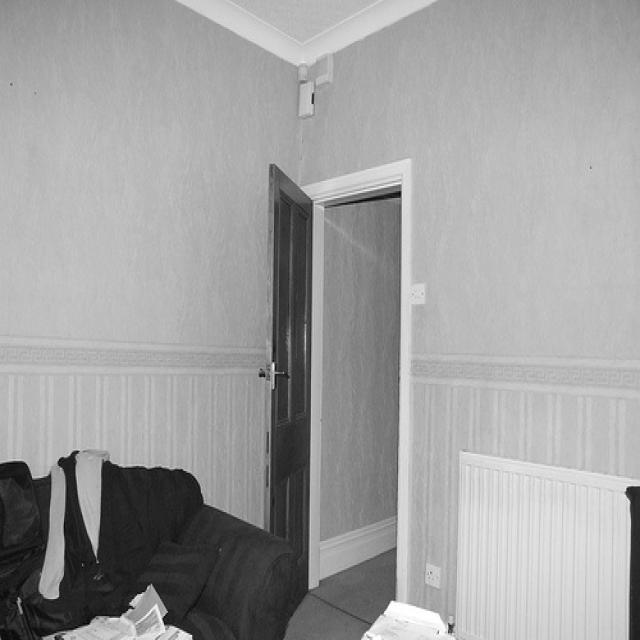sofa: (0, 446, 291, 638)
